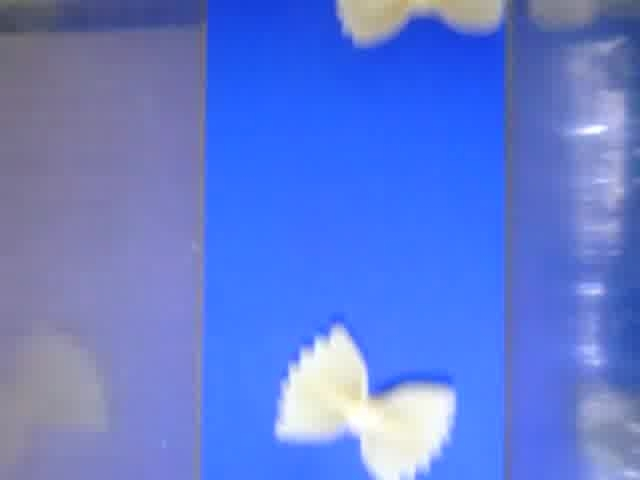farfalle: (274, 322, 458, 480), (336, 1, 500, 48)
